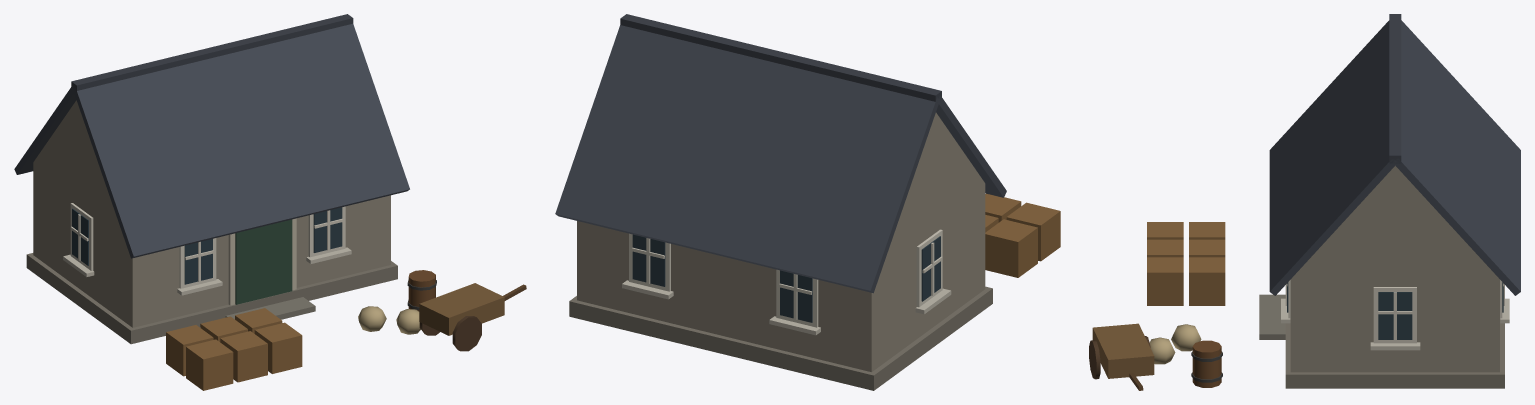
File: procedural_trade_yard@3.glb
3 views of the same model, side by side, from view 1: azimuth 30°, elevation 25°; view 2: azimuth 150°, elevation 25°; view 3: azimuth 270°, elevation 25° (orthographic). The views are drawn at different scales.
Visible parts, largest first — view 1: part_0; view 2: part_0; view 3: part_0.
Part boxes in pixels (x1,y1,x2,y2): part_0: (14,14,526,390); part_0: (555,14,1060,390); part_0: (1089,14,1520,390).
Bounding box in the file's own units: 7.68 × 4.97 × 8.26.
